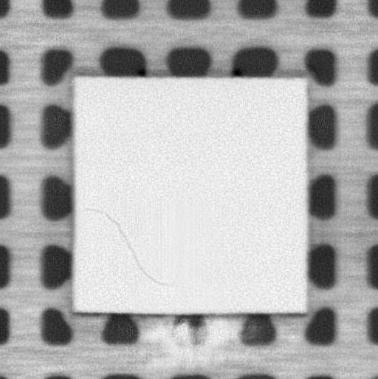DIE_CRACK: (86, 207, 173, 289)
